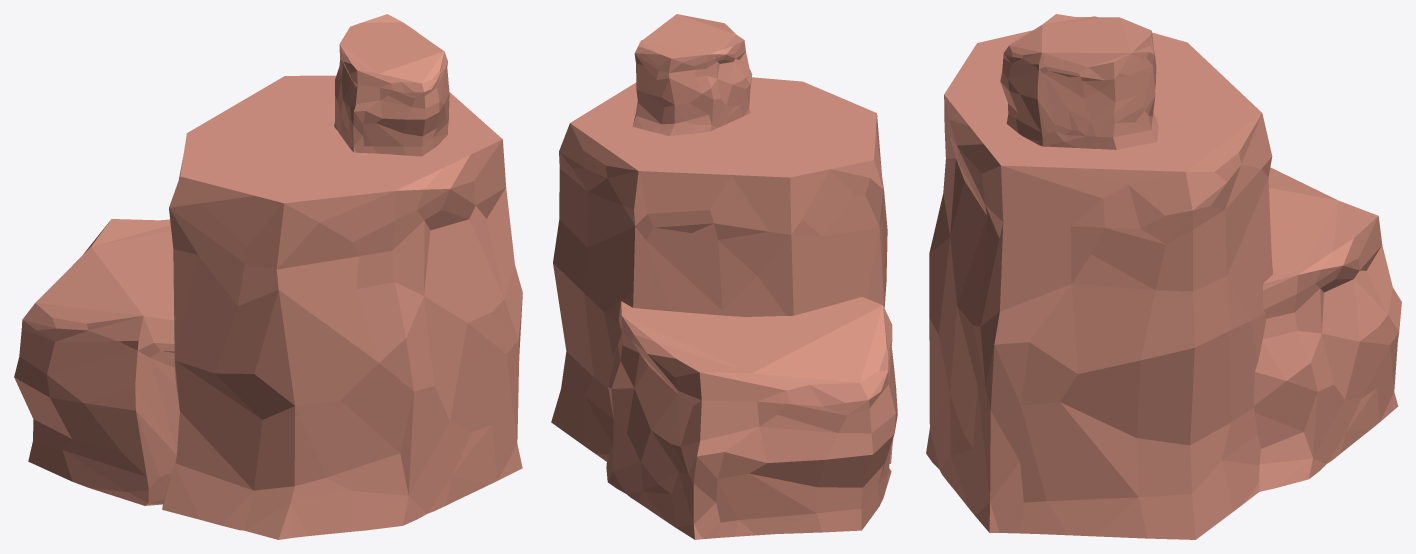
Rendered from Cliff_03.fbx.
3 renders of one model, left to right at view 1: azimuth 30°, elevation 25°; view 2: azimuth 150°, elevation 25°; view 3: azimuth 270°, elevation 25°, orthographic. The views are drawn at different scales.
Parts seen in each view (by area): view 1: Cliff_03; view 2: Cliff_03; view 3: Cliff_03.
Part boxes in pixels (x1,y1,x2,y2): Cliff_03: (14,14,522,539); Cliff_03: (551,14,897,539); Cliff_03: (926,14,1401,539).
Size of the model in its own units: 40.83 by 41.55 by 39.42.
